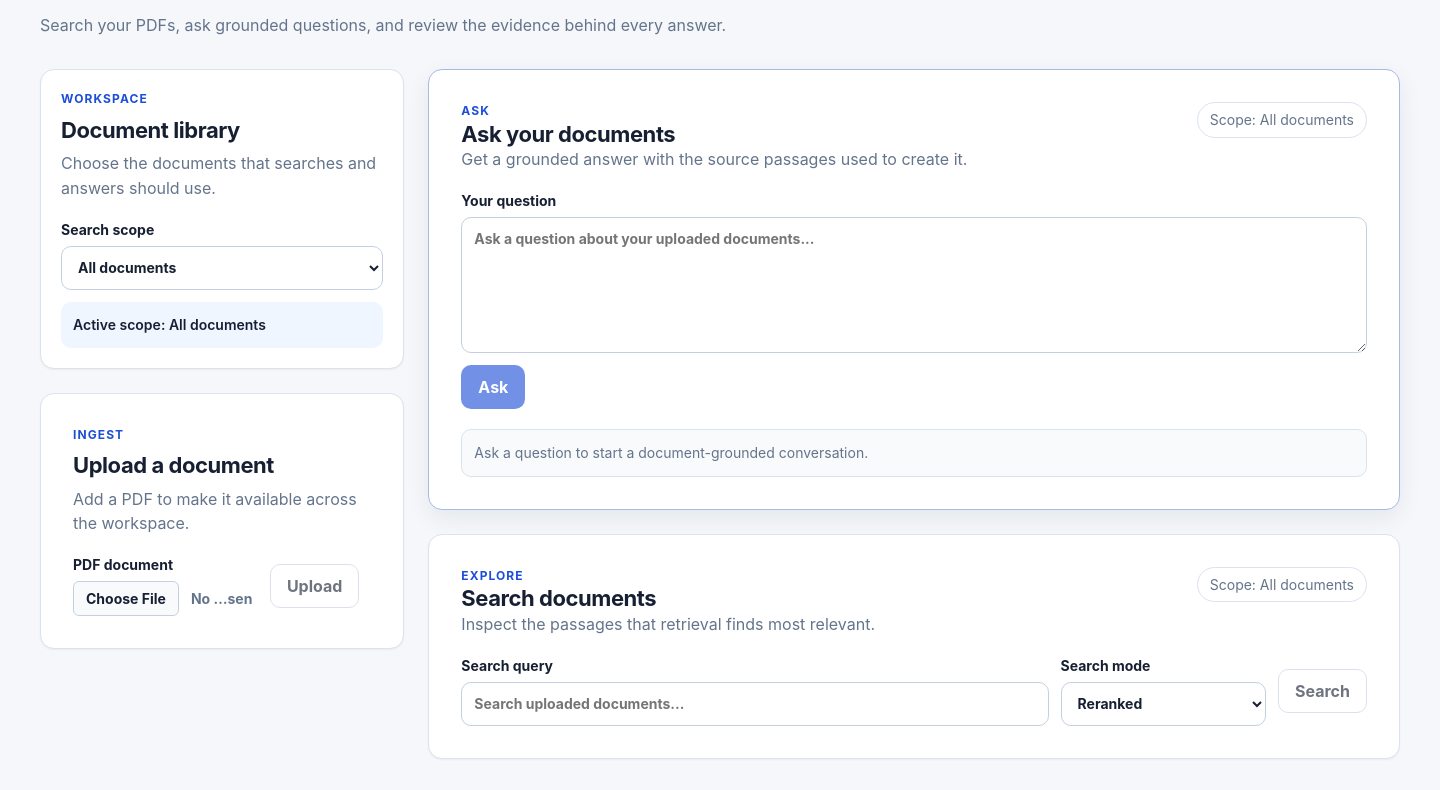
Test: document workspace › renders search success, empty results, errors, retryable hook state, and cancellation feedback
(page scrolled)
Type "payment" into the search field labelled "Search query".
click(755, 704); type("payment")  # box x1=461 y1=682 x2=1049 y2=726
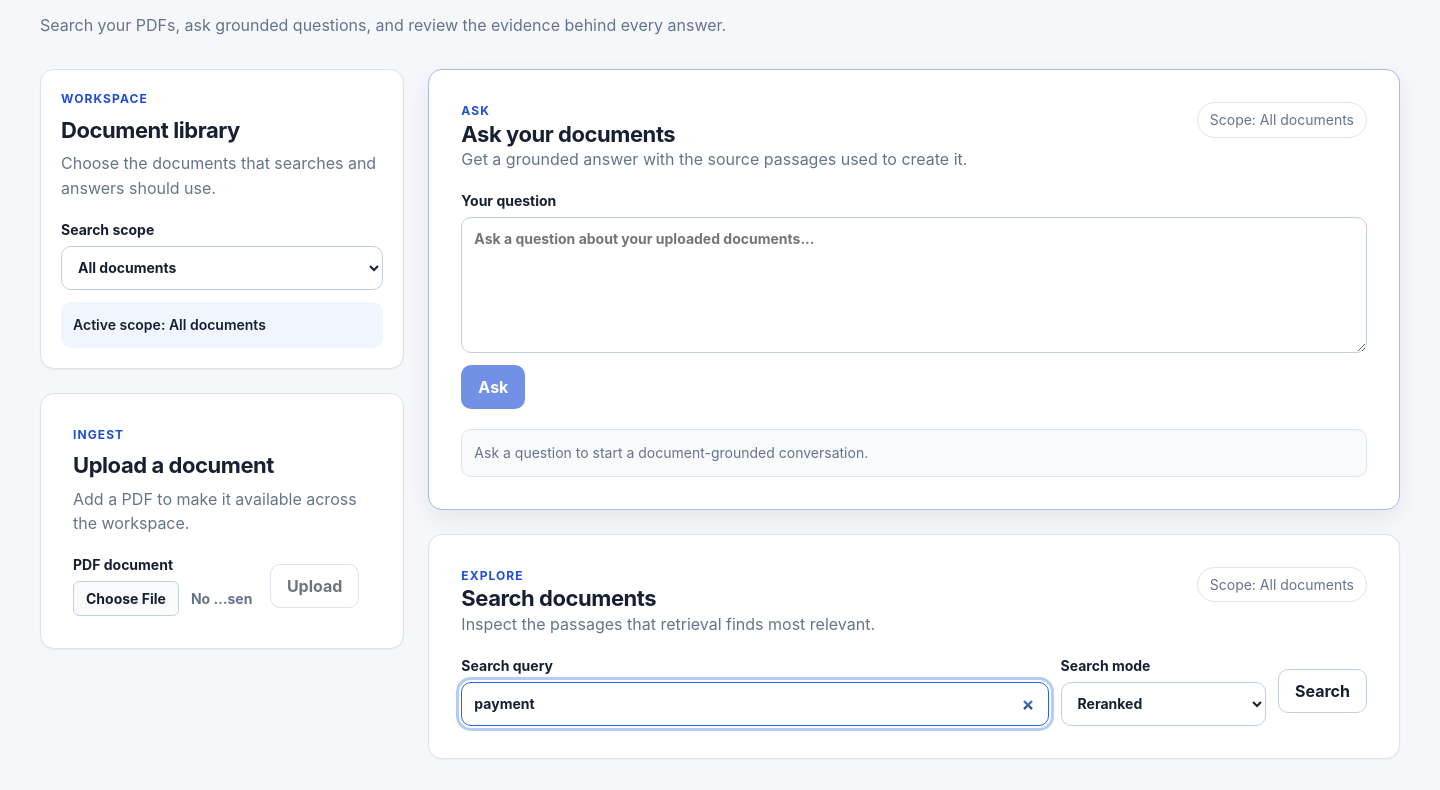
Press Enter
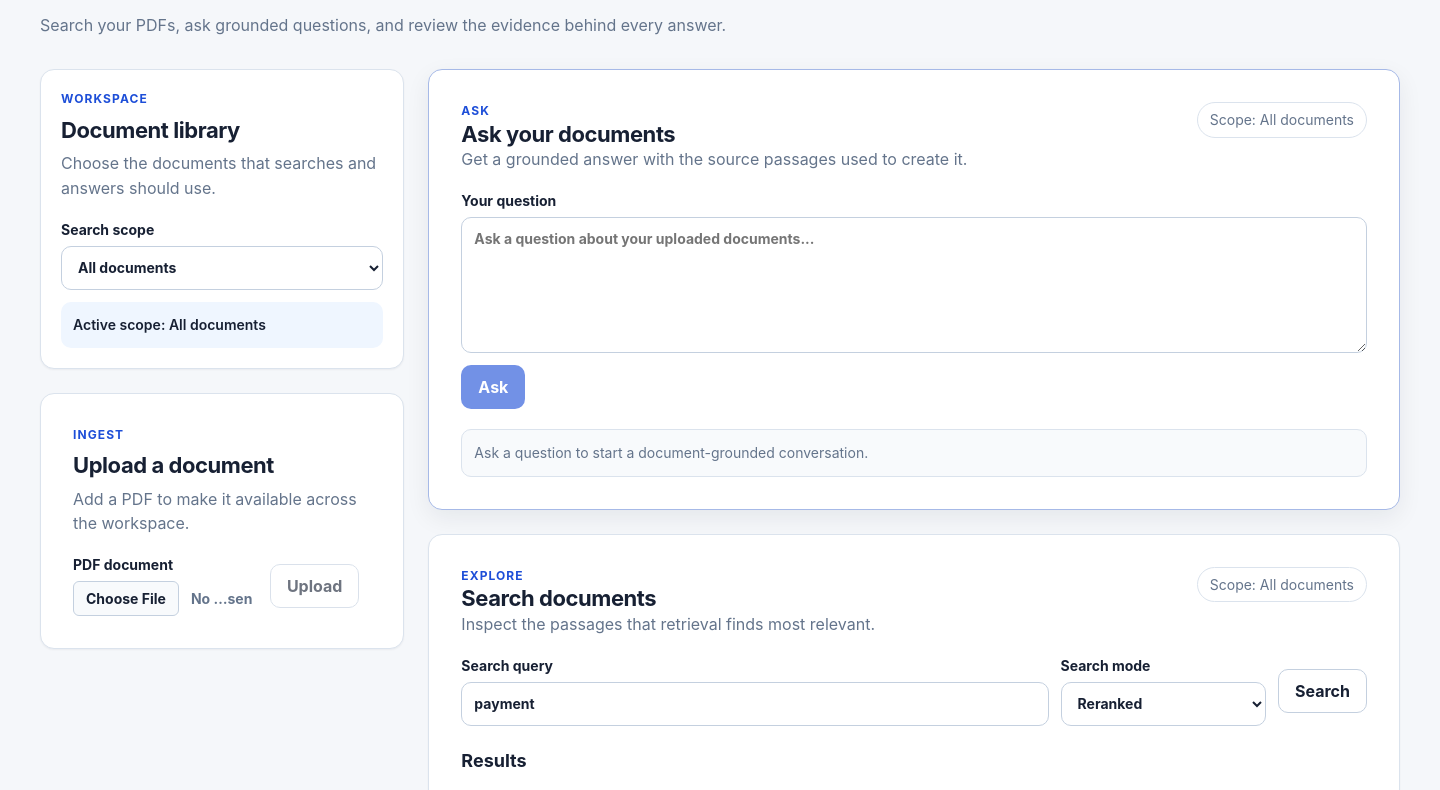
Replace the text in the search field labelled "Search query" with "none" at (755, 704), box x1=461 y1=682 x2=1049 y2=726
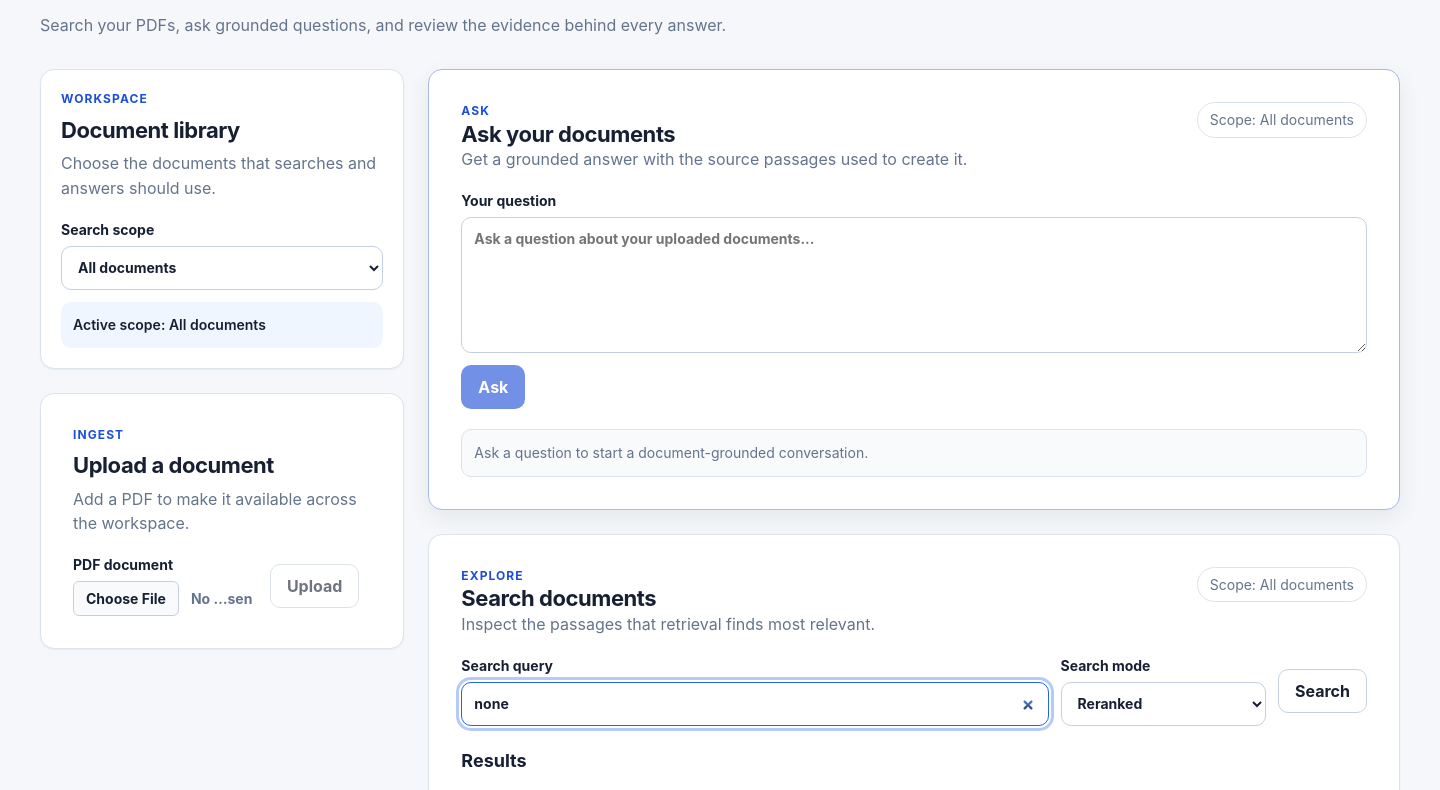
Press Enter
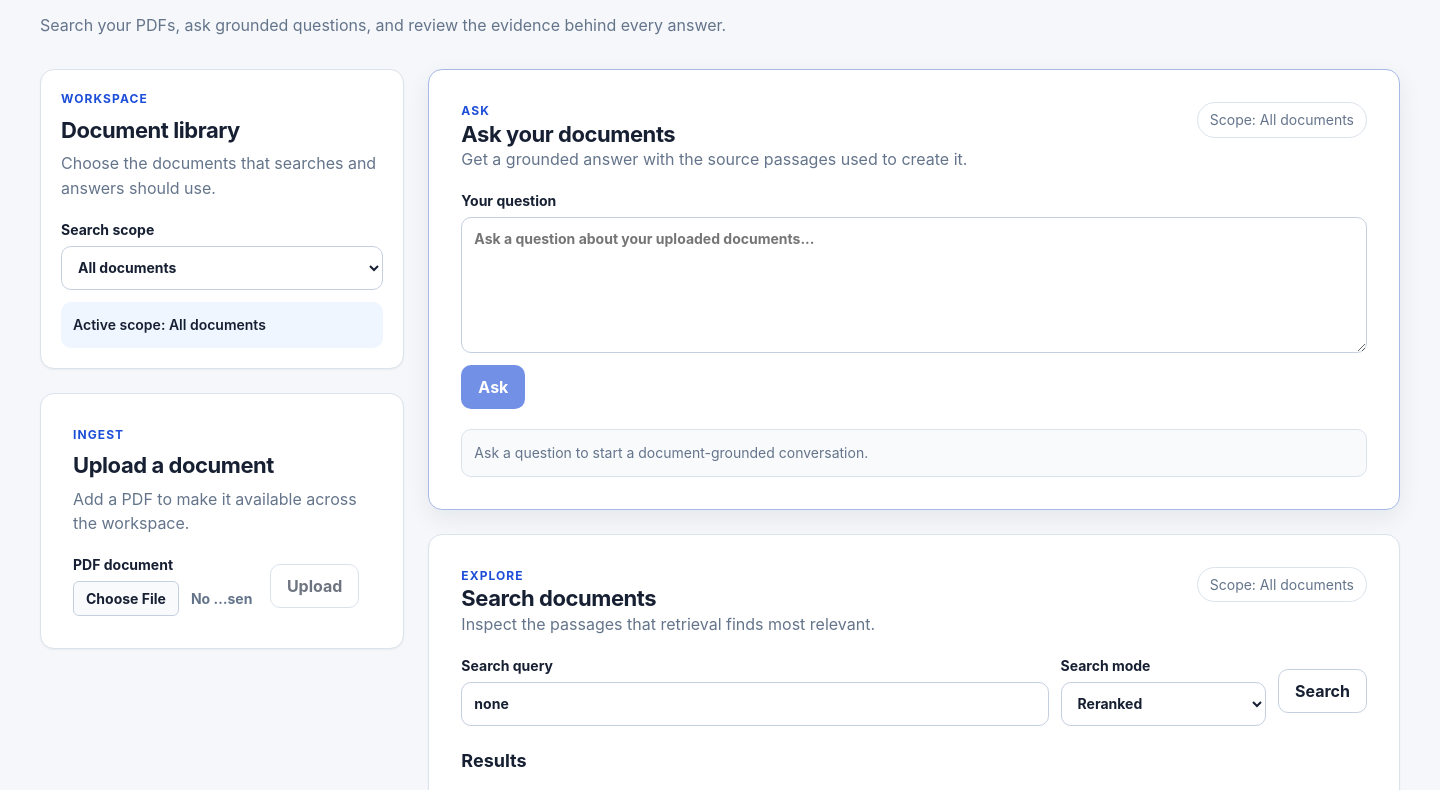
Replace the text in the search field labelled "Search query" with "failure" at (755, 704), box x1=461 y1=682 x2=1049 y2=726
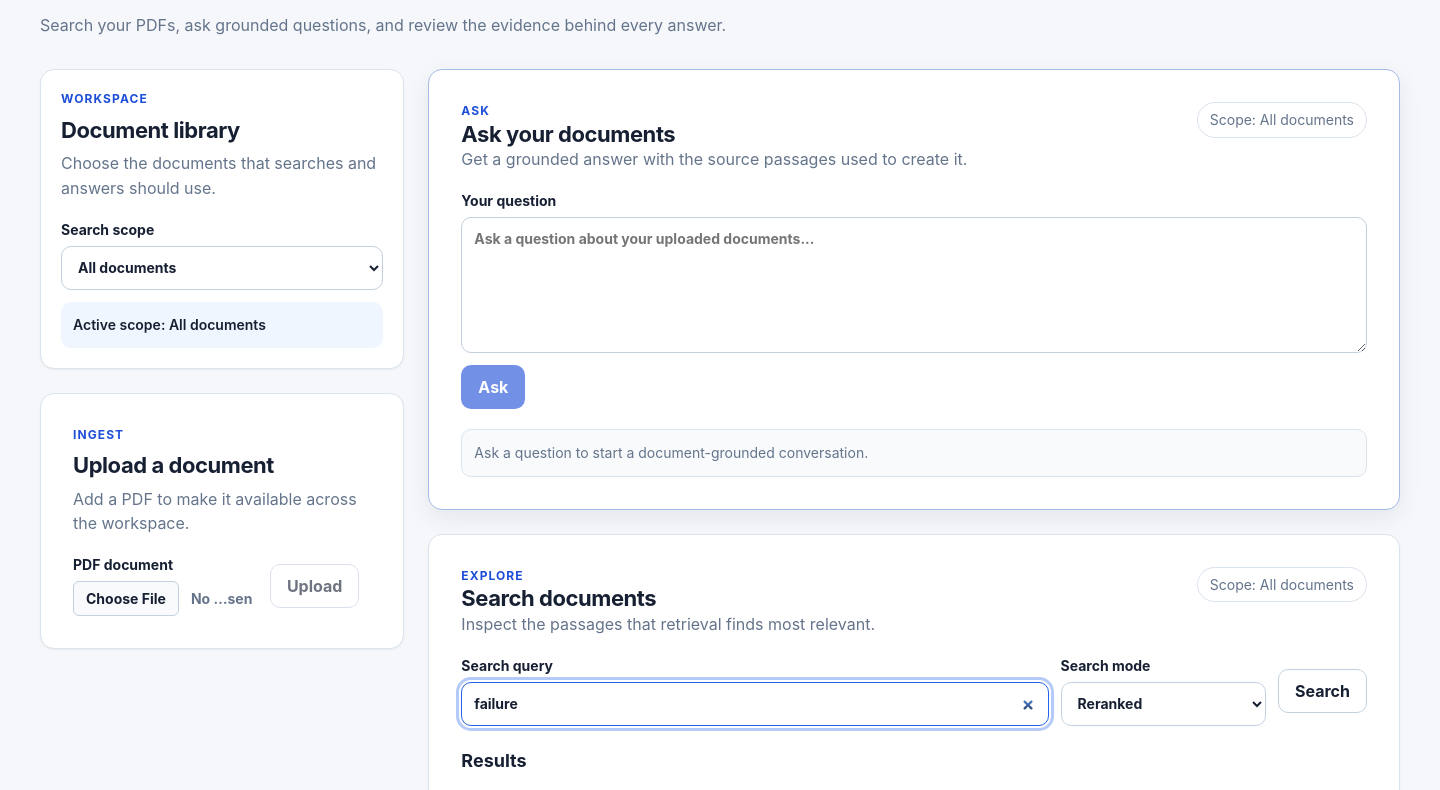
Press Enter
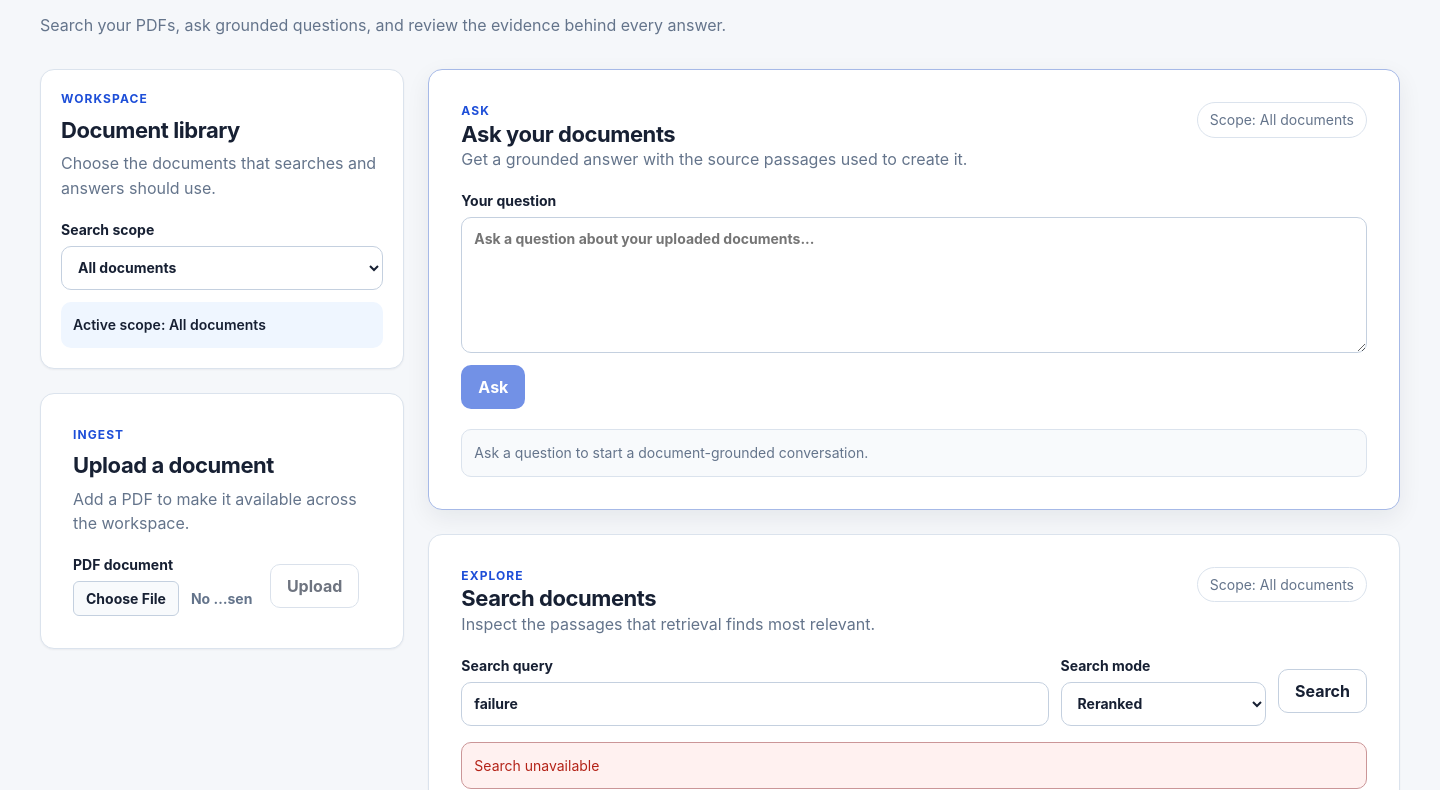
Now the message reads "Search unavailable", box x1=474 y1=757 x2=599 y2=774
